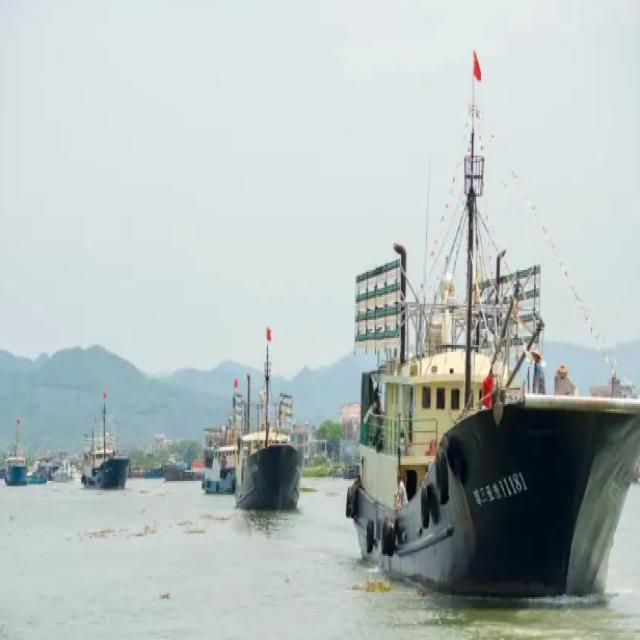fishing boat: (344, 138, 640, 599), (234, 336, 304, 514), (81, 406, 128, 492), (200, 418, 248, 502), (3, 432, 30, 486)
